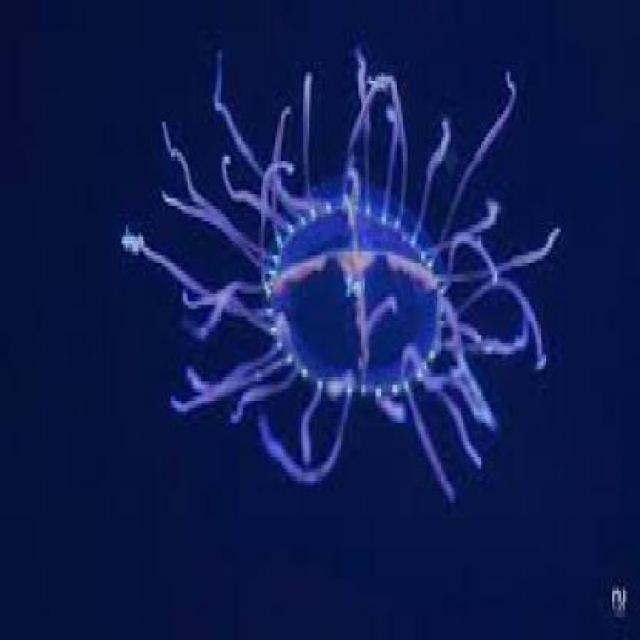Jellyfish: (115, 38, 560, 507)
